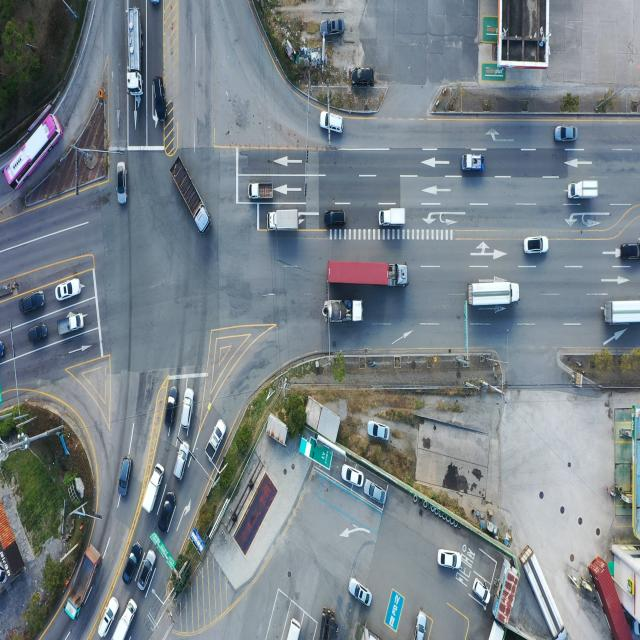car: (97, 596, 118, 640), (206, 418, 227, 462), (137, 550, 156, 592), (157, 492, 175, 534), (154, 76, 169, 123), (173, 441, 190, 482), (348, 578, 371, 608), (124, 547, 141, 585), (163, 386, 177, 432), (57, 278, 83, 302), (184, 390, 198, 432), (21, 292, 46, 314), (364, 481, 386, 506), (321, 111, 345, 133), (342, 464, 364, 488), (118, 457, 131, 497), (474, 578, 492, 606), (350, 66, 375, 86), (320, 18, 345, 38), (116, 160, 127, 204), (366, 421, 389, 442), (524, 237, 548, 256), (440, 550, 461, 570), (326, 210, 349, 228), (620, 242, 640, 262), (414, 612, 428, 640), (555, 127, 578, 144), (29, 324, 49, 341), (0, 342, 6, 362)
large_bus: (4, 108, 59, 194)
large_truck: (325, 260, 408, 290)
medium_truck: (524, 545, 568, 638), (62, 538, 102, 630), (173, 156, 213, 238), (127, 5, 144, 95), (467, 280, 520, 308), (325, 298, 366, 324), (605, 298, 640, 325), (267, 208, 301, 232), (321, 608, 338, 640)
small_bus: (285, 618, 301, 640)
small_truck: (141, 460, 164, 516), (114, 599, 140, 640), (568, 182, 598, 204), (57, 313, 85, 336), (376, 208, 404, 228), (249, 179, 274, 200), (461, 156, 483, 173)
